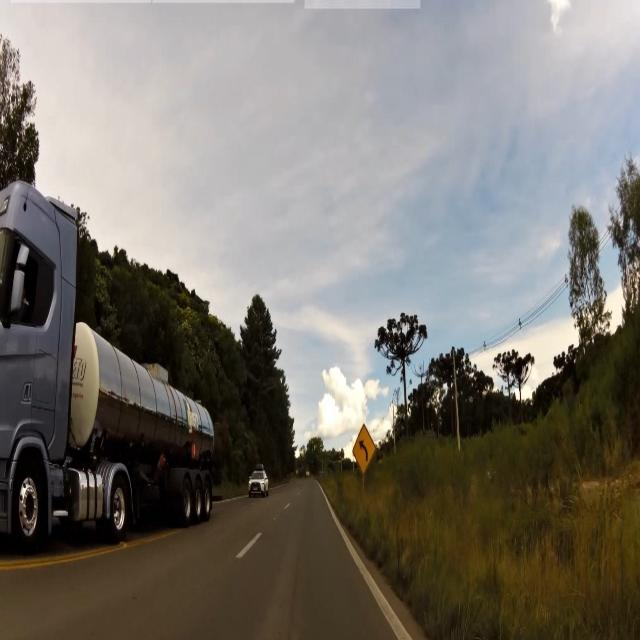A-2a: (353, 421, 380, 476)
